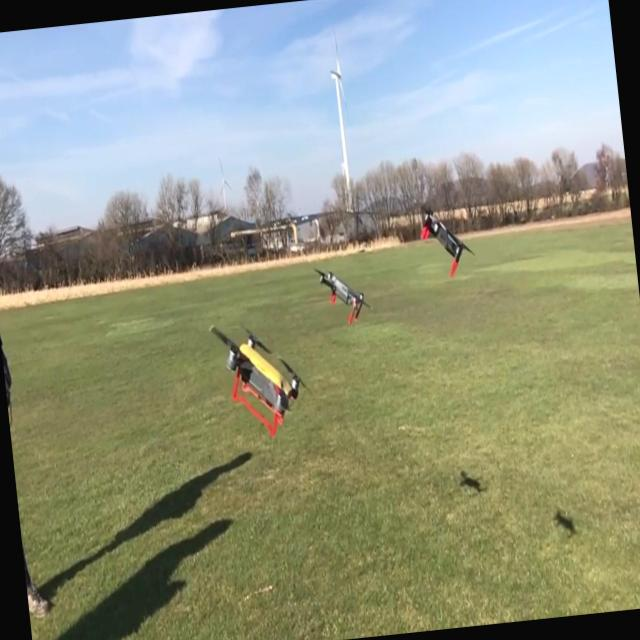drone: (208, 313, 316, 442), (417, 195, 479, 282), (313, 260, 374, 330)
